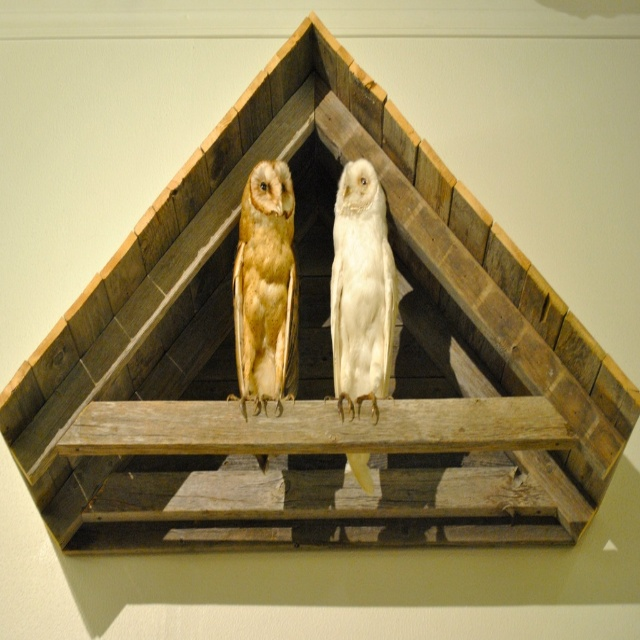Owl: (332, 155, 401, 427), (230, 156, 299, 421)
